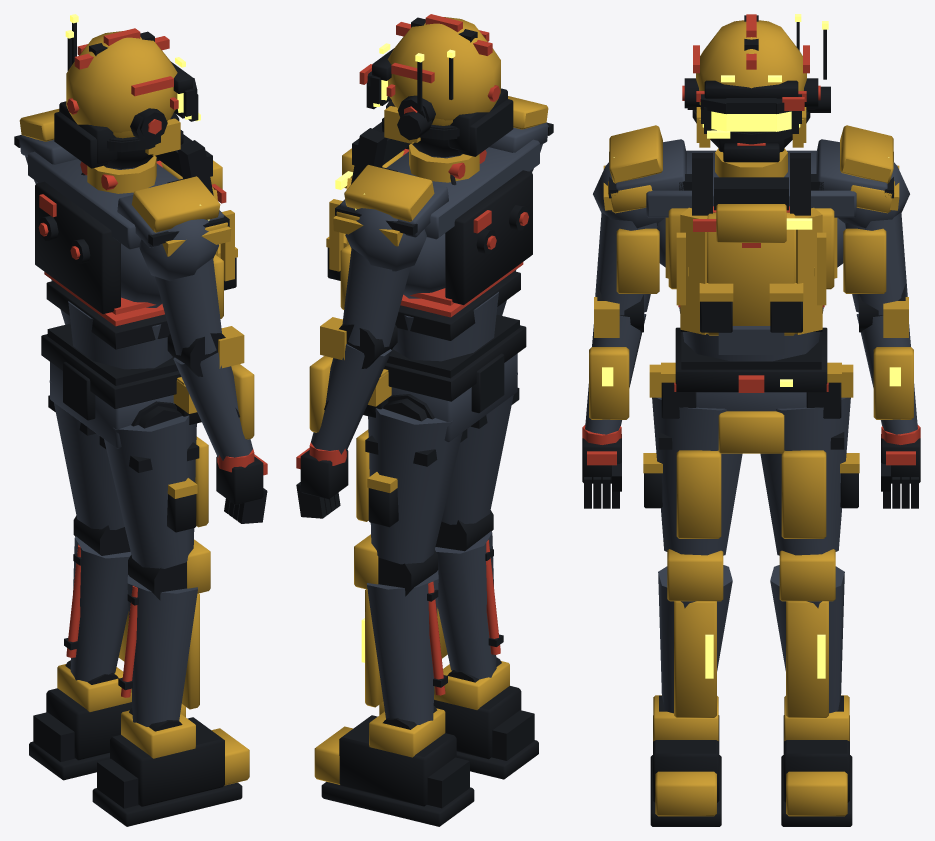
Rendered from soldado_comandante.glb.
The picture shows the model from 3 angles, left to right: view 1: azimuth 30°, elevation 25°; view 2: azimuth 150°, elevation 25°; view 3: azimuth 270°, elevation 25°; orthographic projection. The views are drawn at different scales.
Visible parts, largest first — view 1: mov_pierna_der, mov_torso, mov_pierna_izq, mov_brazo_der, casco_comando, pelvis, hombreras, mov_cabeza, peto_ligero; view 2: mov_pierna_izq, mov_torso, mov_pierna_der, mov_brazo_izq, casco_comando, pelvis, hombreras, mov_cabeza, peto_ligero; view 3: mov_pierna_der, mov_pierna_izq, peto_ligero, mov_brazo_der, mov_brazo_izq, casco_comando, pelvis, mov_torso, hombreras, mov_cabeza.
Boxes of the visible parts, x1=… form: mov_pierna_der: x1=92, y1=401, x2=249, y2=826; mov_torso: x1=28, y1=151, x2=215, y2=385; mov_pierna_izq: x1=29, y1=380, x2=185, y2=780; mov_brazo_der: x1=139, y1=219, x2=267, y2=523; casco_comando: x1=54, y1=14, x2=200, y2=168; pelvis: x1=41, y1=334, x2=201, y2=448; hombreras: x1=14, y1=109, x2=231, y2=256; mov_cabeza: x1=59, y1=30, x2=194, y2=169; peto_ligero: x1=155, y1=134, x2=237, y2=290; mov_pierna_izq: x1=314, y1=394, x2=474, y2=826; mov_torso: x1=348, y1=139, x2=539, y2=378; mov_pierna_der: x1=379, y1=373, x2=538, y2=779; mov_brazo_izq: x1=296, y1=208, x2=426, y2=518; casco_comando: x1=359, y1=14, x2=513, y2=157; pelvis: x1=363, y1=325, x2=526, y2=442; hombreras: x1=333, y1=96, x2=553, y2=246; mov_cabeza: x1=370, y1=17, x2=507, y2=158; peto_ligero: x1=326, y1=122, x2=410, y2=280; mov_pierna_der: x1=643, y1=397, x2=742, y2=826; mov_pierna_izq: x1=760, y1=397, x2=859, y2=826; peto_ligero: x1=676, y1=153, x2=826, y2=354; mov_brazo_der: x1=582, y1=162, x2=664, y2=508; mov_brazo_izq: x1=838, y1=162, x2=920, y2=508; casco_comando: x1=687, y1=14, x2=830, y2=162; pelvis: x1=649, y1=327, x2=853, y2=453; mov_torso: x1=646, y1=148, x2=856, y2=369; hombreras: x1=603, y1=125, x2=899, y2=210; mov_cabeza: x1=682, y1=14, x2=820, y2=151.
Size of the model in its own units: 0.394 by 1.82 by 0.725.
